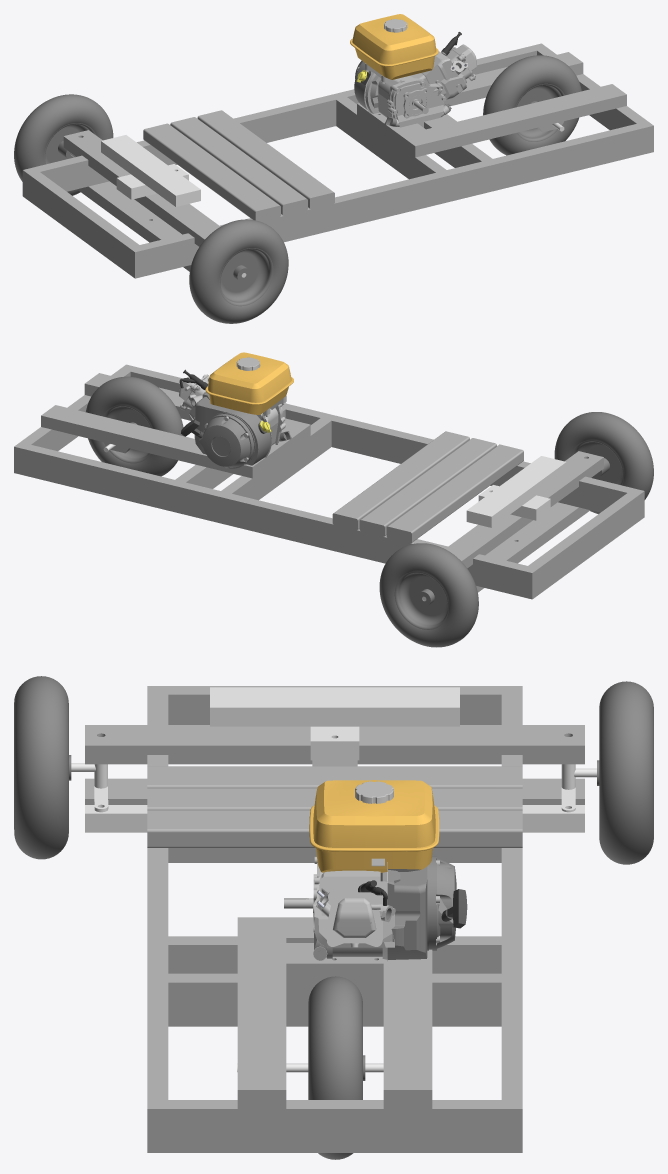
The model's file is wooden-gokart.glb.
3 renders of one model, top to bottom at view 1: azimuth 30°, elevation 25°; view 2: azimuth 150°, elevation 25°; view 3: azimuth 270°, elevation 25°, orthographic. The views are drawn at different scales.
Visible parts, largest first — view 1: car frame-1, 4.SA-MZP-01.04-B_GX212-1, wheel-1, wheel-3, wheel-2, steering log-1; view 2: car frame-1, 4.SA-MZP-01.04-B_GX212-1, wheel-2, wheel-3, wheel-1, steering log-1; view 3: car frame-1, 4.SA-MZP-01.04-B_GX212-1, steering log-1, wheel-1, wheel-2, wheel-3, steering rod-1, spindle right-1, spindle-2.
Boxes of the visible parts, <box> form: car frame-1: <box>22,43,653,278</box>; 4.SA-MZP-01.04-B_GX212-1: <box>350,14,476,127</box>; wheel-1: <box>189,219,288,323</box>; wheel-3: <box>483,55,581,155</box>; wheel-2: <box>14,94,113,195</box>; steering log-1: <box>101,135,200,206</box>; car frame-1: <box>14,364,644,599</box>; 4.SA-MZP-01.04-B_GX212-1: <box>179,352,293,468</box>; wheel-2: <box>379,543,478,647</box>; wheel-3: <box>86,376,183,476</box>; wheel-1: <box>554,412,653,514</box>; steering log-1: <box>466,456,566,527</box>; car frame-1: <box>85,686,584,1152</box>; 4.SA-MZP-01.04-B_GX212-1: <box>284,780,467,960</box>; steering log-1: <box>210,687,459,760</box>; wheel-1: <box>14,676,71,859</box>; wheel-2: <box>597,681,653,864</box>; wheel-3: <box>308,976,365,1159</box>; steering rod-1: <box>85,760,584,832</box>; spindle right-1: <box>561,764,596,812</box>; spindle-2: <box>71,763,108,812</box>.
Bounding box in the file's own units: 1.83 × 0.5565 × 1.17.
